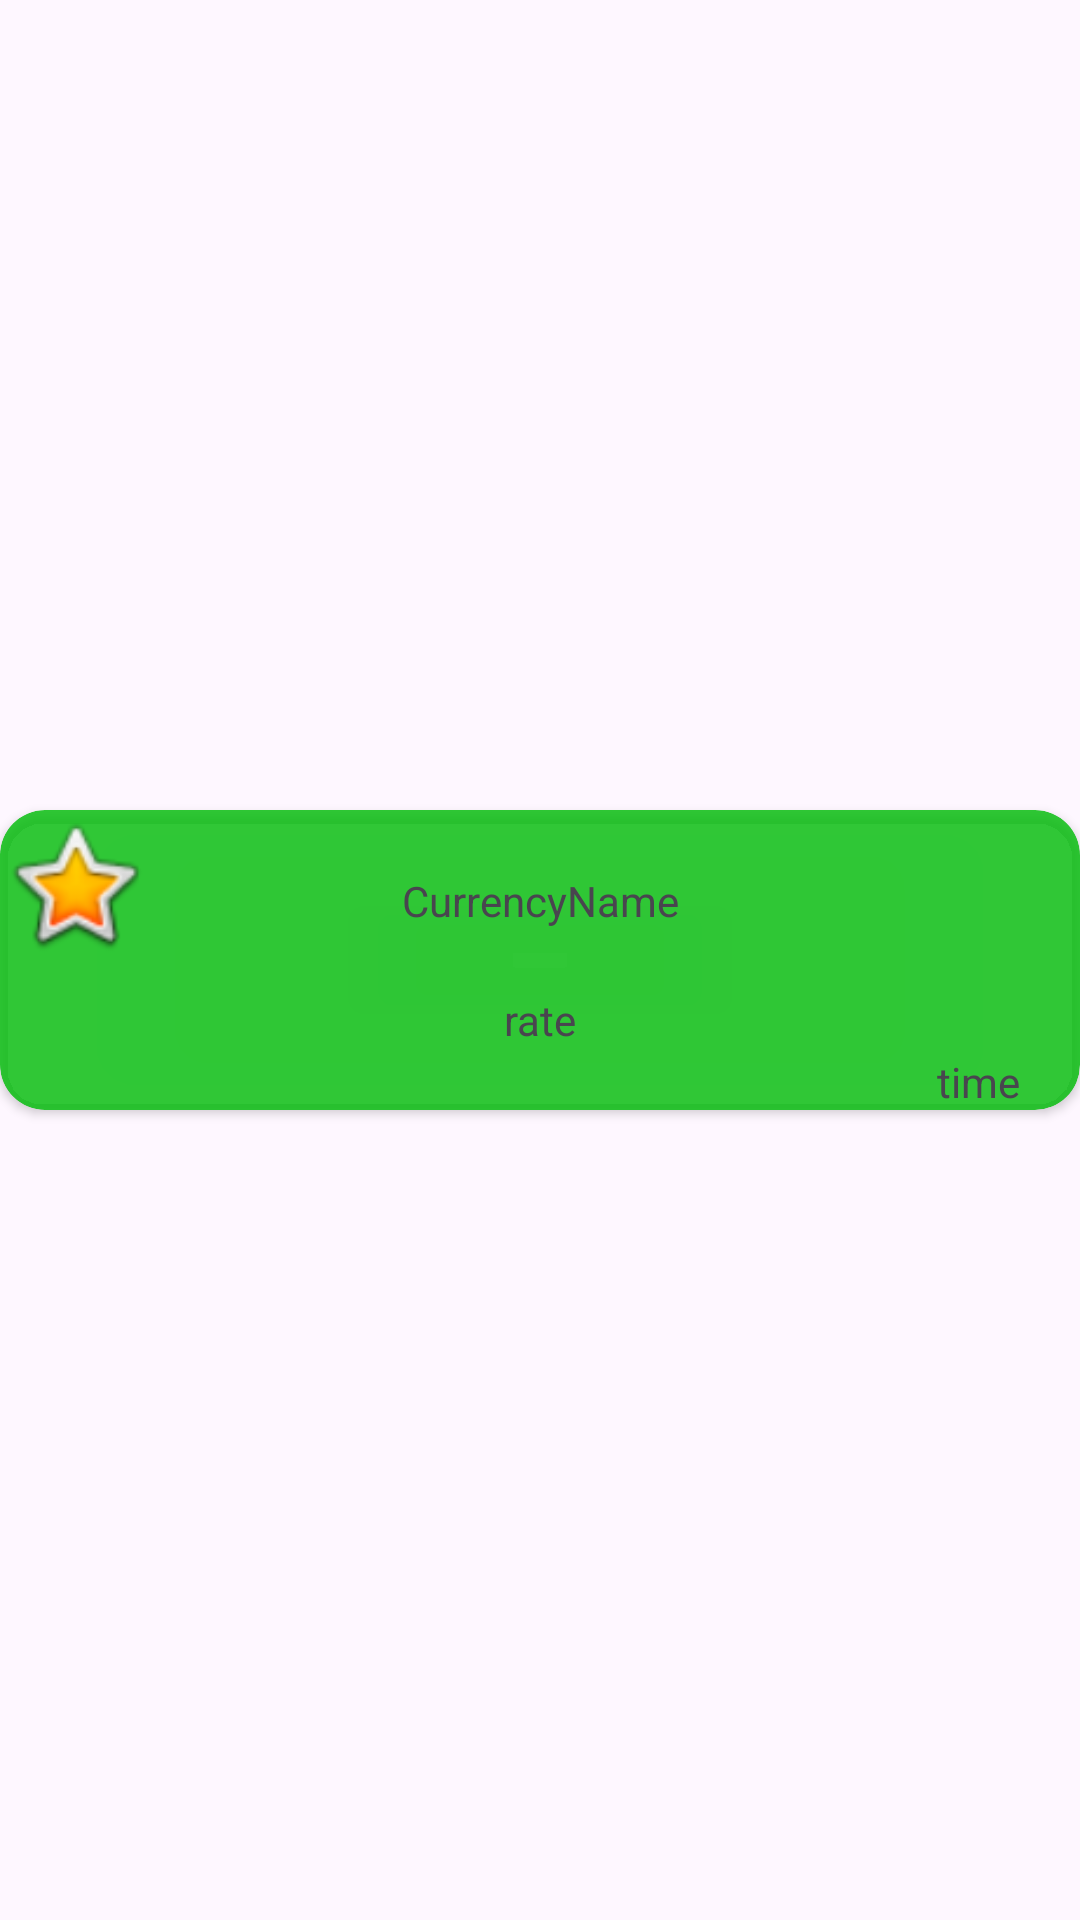

Named icons in this screenshot (1080x1920) and their centers, point (x, y):
star on: point (76, 886)
